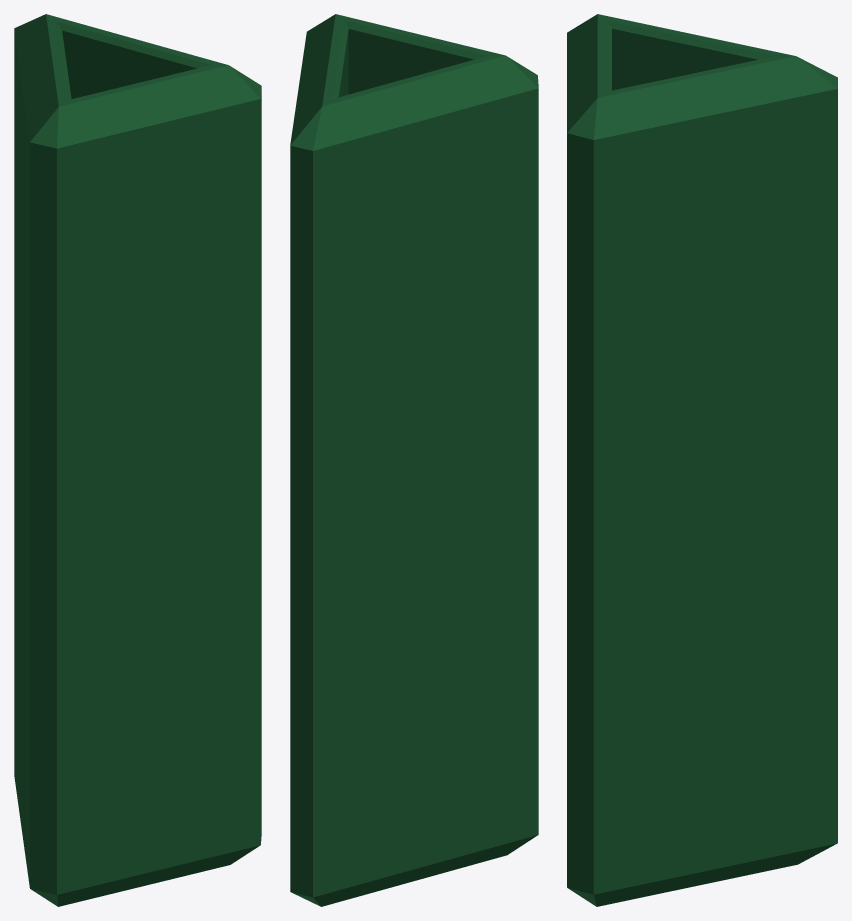
The picture shows the model from 3 angles, left to right: view 1: azimuth 30°, elevation 25°; view 2: azimuth 150°, elevation 25°; view 3: azimuth 270°, elevation 25°; orthographic projection.
Parts seen in each view (by area): view 1: 平面; view 2: 平面; view 3: 平面.
Part boxes in pixels (bbox=[...]): 平面: bbox=[14, 14, 261, 906]; 平面: bbox=[290, 14, 538, 906]; 平面: bbox=[567, 14, 837, 906].
Bounding box in the file's own units: 182 × 600 × 182.
